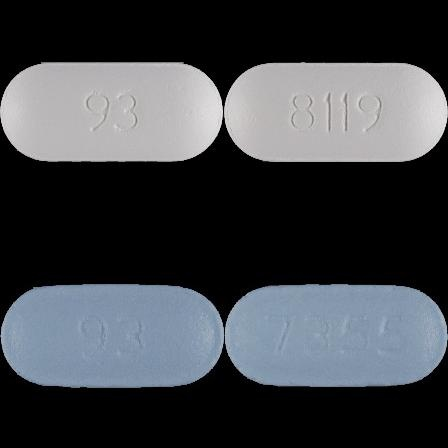42291-277: (0, 0, 224, 224)
